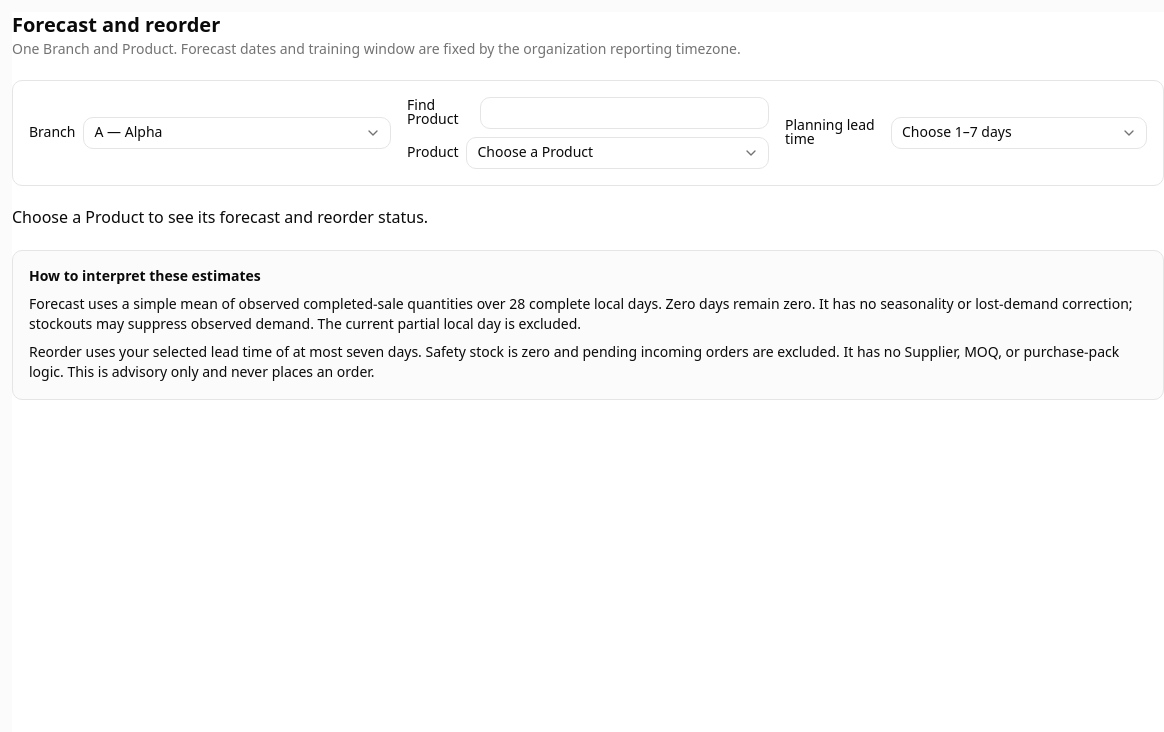
it: Forecast and reorder view › reports distinct unavailable reasons and request errors
The width and height of the screenshot is (1164, 732).
Select "ONE — One" in the dropdown labelled "Product" at (618,153), box x1=466 y1=137 x2=769 y2=169
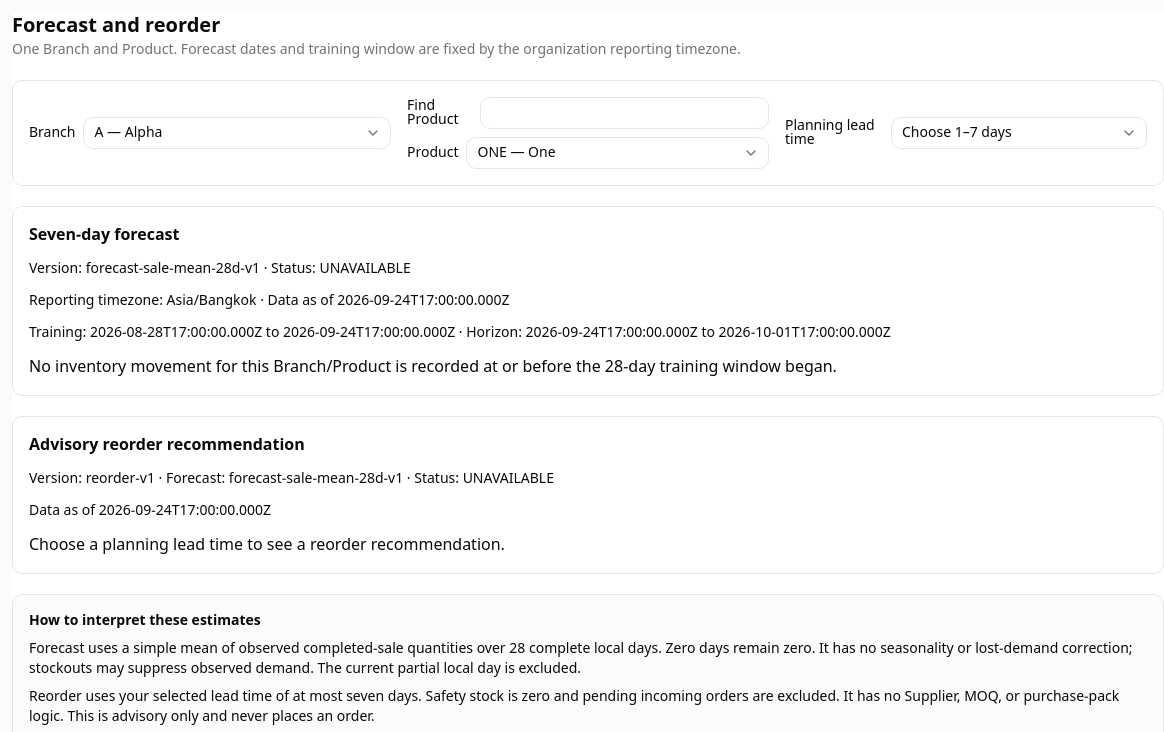
Check: the text "No inventory movement for this Branch/Product" is shown, box x1=29 y1=355 x2=837 y2=379
Check: the text "Choose a planning lead time to see a reorder recommendation." is shown, box x1=29 y1=533 x2=505 y2=557
